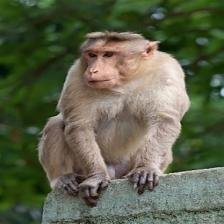monkey: (34, 25, 192, 195)
